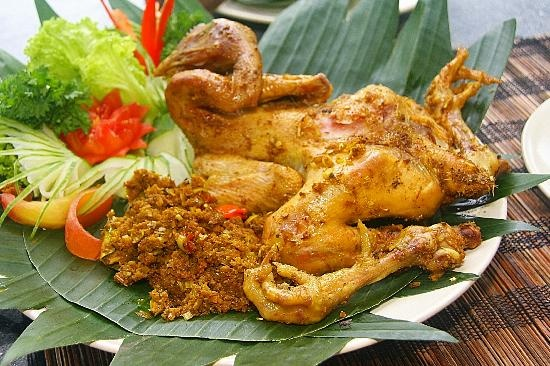ayam_betutu: (167, 77, 496, 324), (160, 23, 512, 207)
